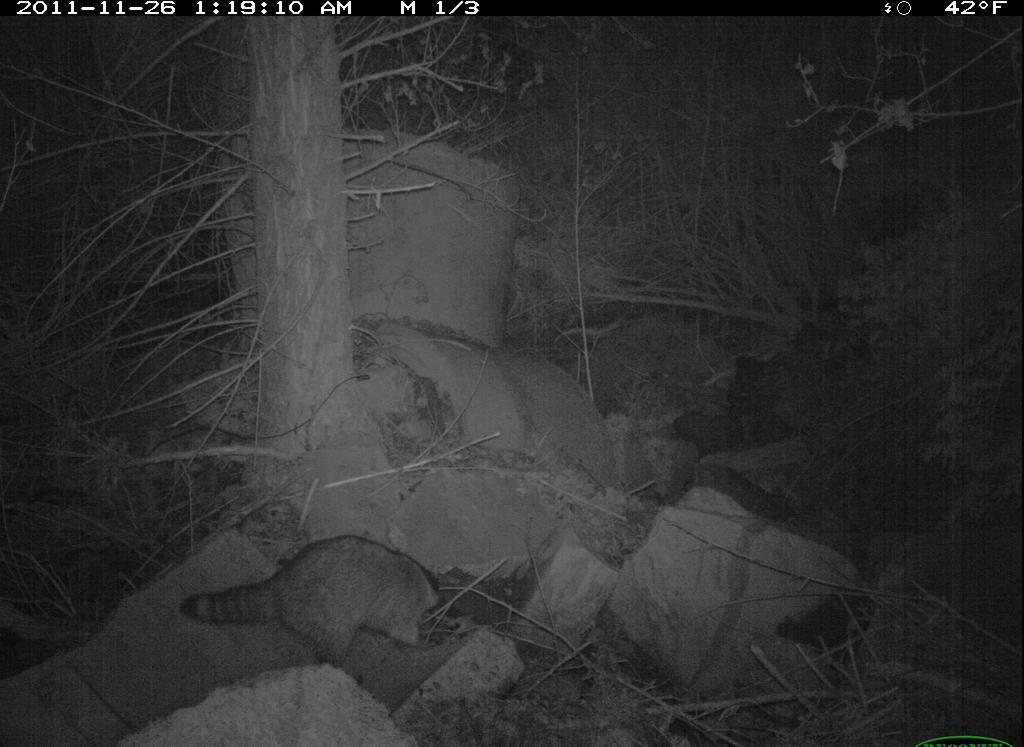raccoon: (172, 530, 455, 667)
